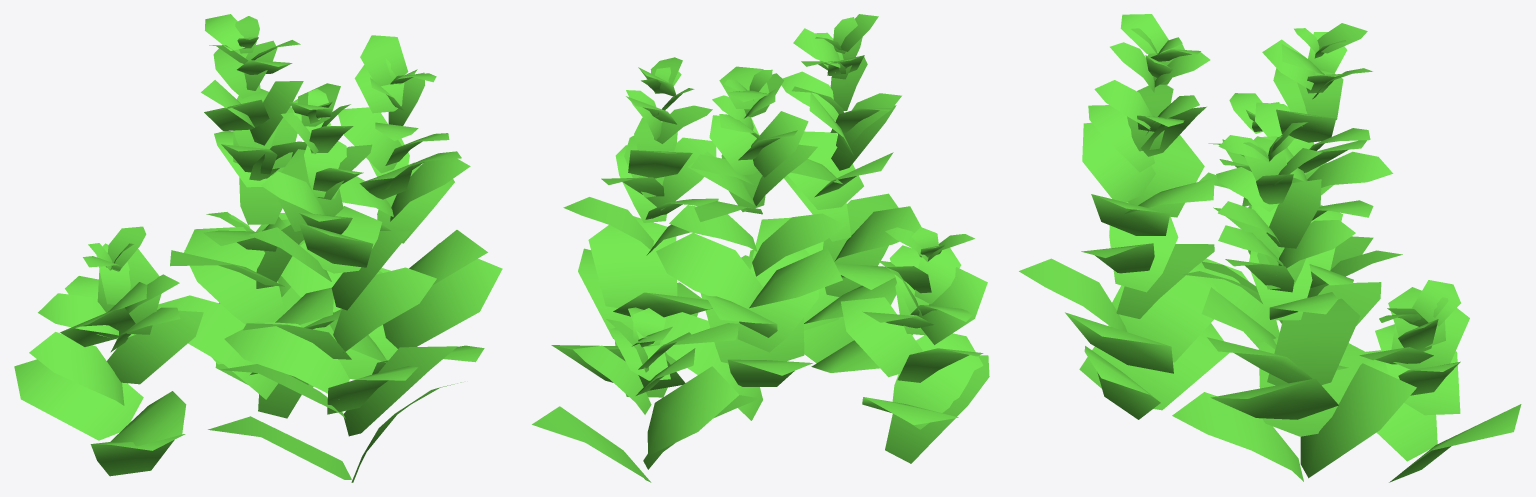
Rendered from Plants_Free6.fbx.
3 renders of one model, left to right at view 1: azimuth 30°, elevation 25°; view 2: azimuth 150°, elevation 25°; view 3: azimuth 270°, elevation 25°, orthographic. The views are drawn at different scales.
Parts seen in each view (by area): view 1: Leaves; view 2: Leaves; view 3: Leaves.
Boxes of the visible parts, left/top/right/bottom form: Leaves: left=14, top=14, right=502, bottom=482; Leaves: left=532, top=14, right=989, bottom=482; Leaves: left=1019, top=14, right=1521, bottom=482.
Size of the model in its own units: 148 by 130 by 146.
